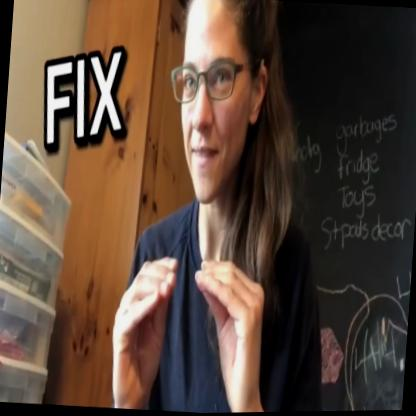Fix: (109, 231, 266, 415)
